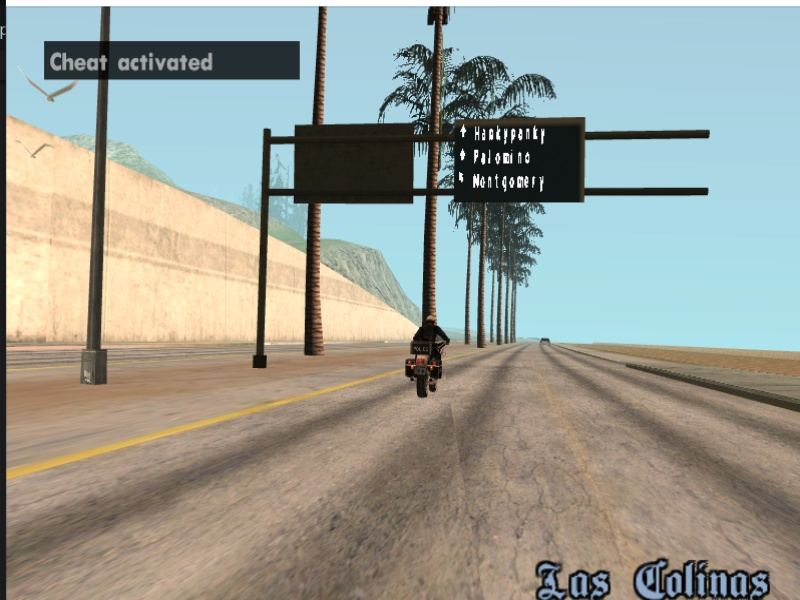pole: (81, 7, 117, 393), (250, 132, 280, 374)
tree: (302, 10, 326, 361), (424, 4, 444, 337), (459, 201, 474, 347), (475, 197, 489, 349), (496, 209, 505, 346)
vehicle: (404, 314, 455, 399)
